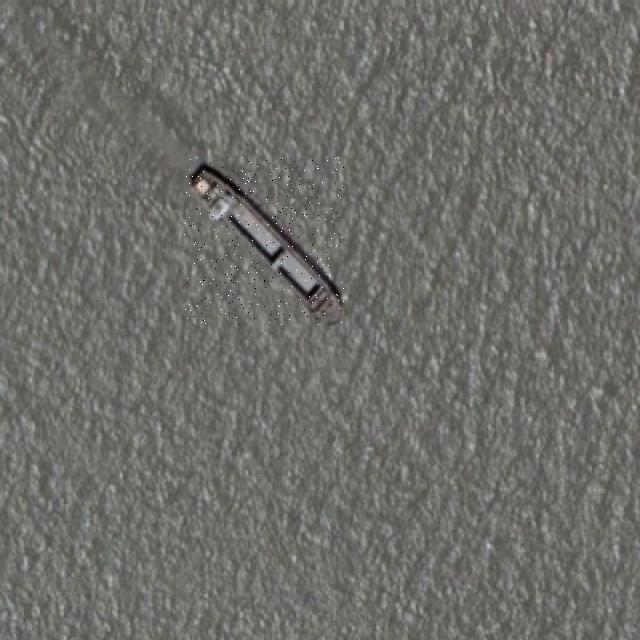boat: (184, 157, 344, 325)
